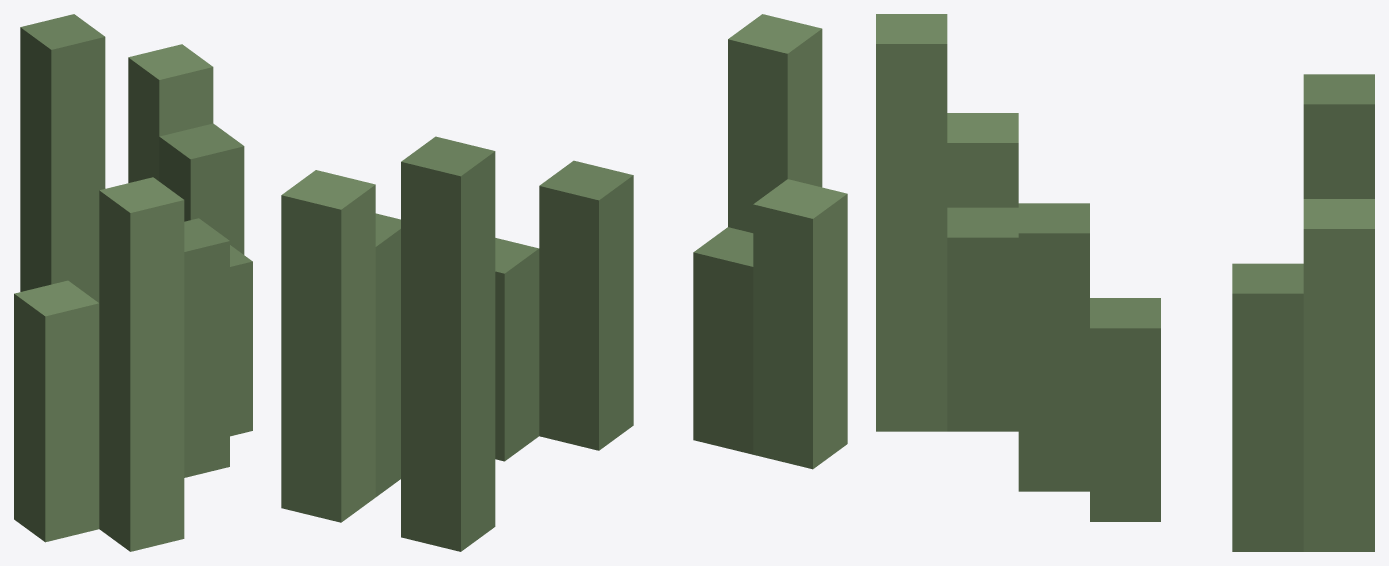
Rendered from musgo_05.glb.
The picture shows the model from 3 angles, left to right: view 1: azimuth 30°, elevation 25°; view 2: azimuth 150°, elevation 25°; view 3: azimuth 270°, elevation 25°; orthographic projection. The views are drawn at different scales.
Parts seen in each view (by area): view 1: musgo_05; view 2: musgo_05; view 3: musgo_05.
Boxes of the visible parts, left/top/right/bottom form: musgo_05: left=14, top=14, right=252, bottom=551; musgo_05: left=281, top=14, right=847, bottom=551; musgo_05: left=876, top=14, right=1374, bottom=551.
Bounding box in the file's own units: 0.6 × 0.6 × 0.7.
